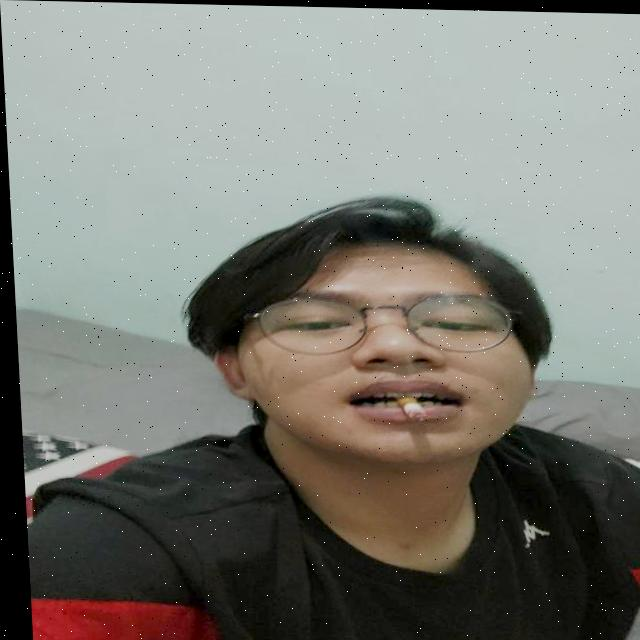cigarette: (395, 395, 422, 421)
